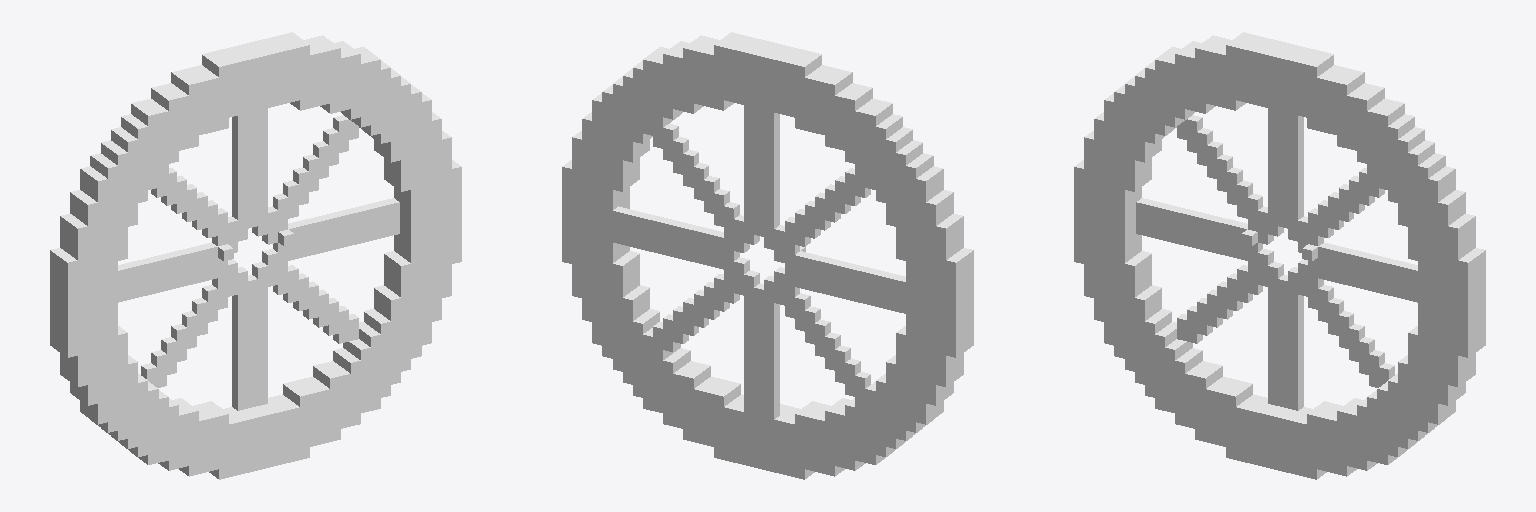
The model's file is factory4.3-1.obj.
3 views of the same model, side by side, from view 1: azimuth 30°, elevation 25°; view 2: azimuth 150°, elevation 25°; view 3: azimuth 330°, elevation 25° (orthographic).
Visible parts, largest first — view 1: object 1; view 2: object 1; view 3: object 1.
Boxes of the visible parts, box(x1,y1,x2,y2) form: object 1: box(50, 32, 461, 479); object 1: box(562, 32, 973, 479); object 1: box(1074, 32, 1485, 479).
Bounding box in the file's own units: 3.9 × 3.9 × 0.3.